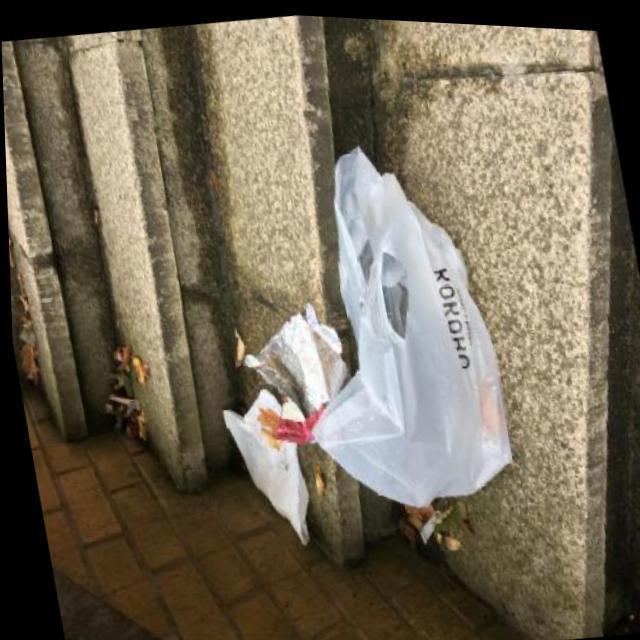paper: (221, 382, 321, 556)
plastic: (266, 127, 530, 529), (237, 296, 365, 452)
